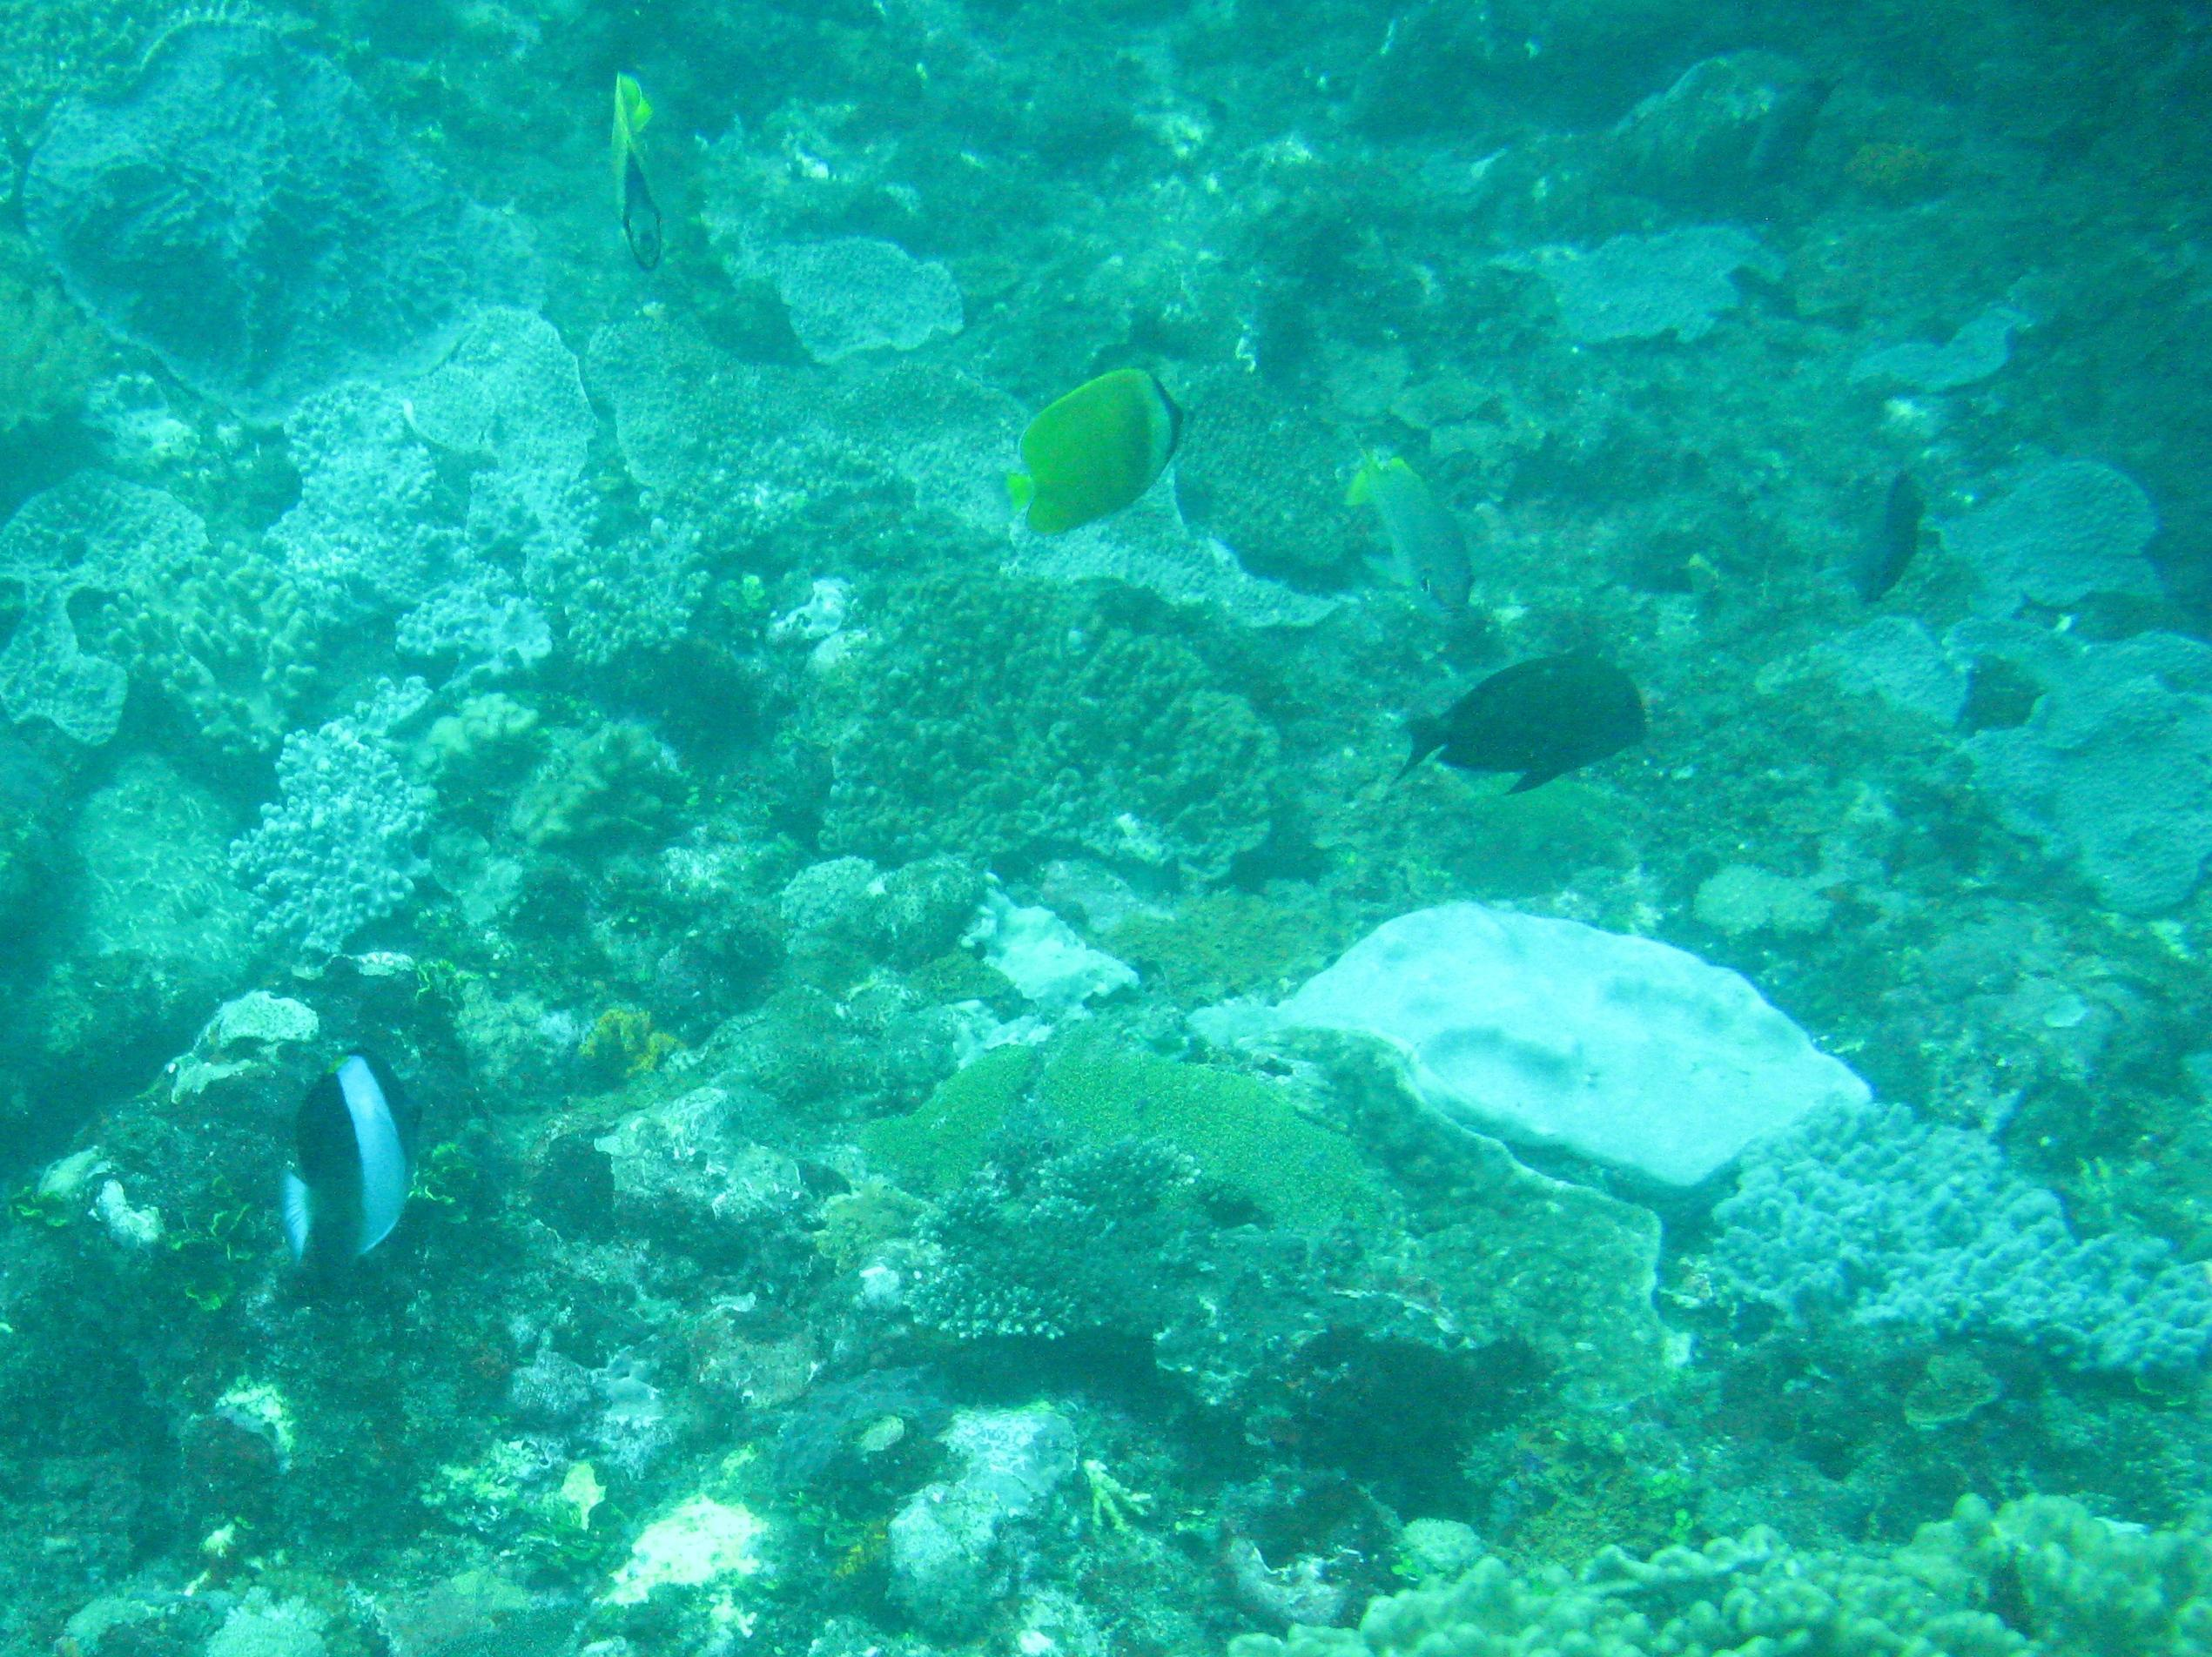Fish: (973, 285, 1260, 580)
